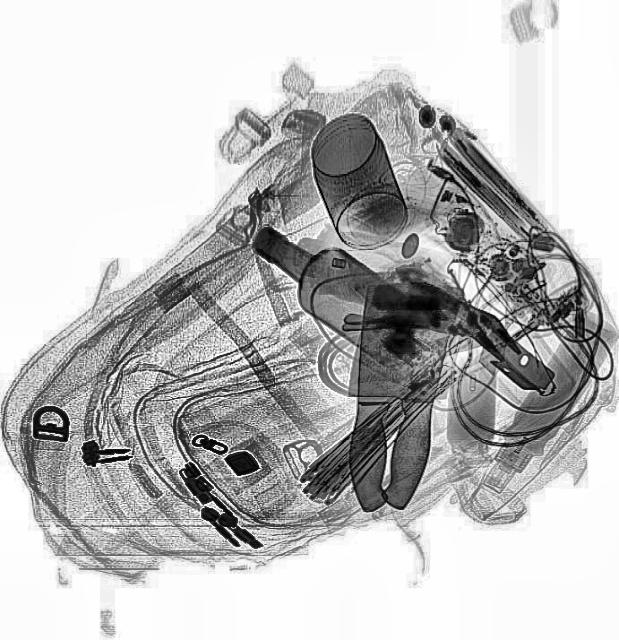Knife: (328, 272, 468, 518), (327, 272, 463, 510)
